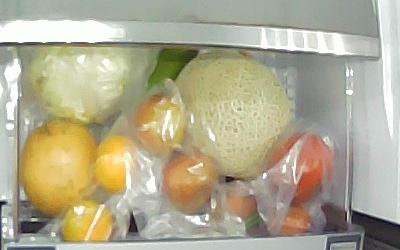cabbage: (28, 45, 132, 123)
melon: (173, 49, 291, 178)
pear: (20, 118, 99, 217)
prune_vinyl: (161, 146, 220, 214), (134, 92, 185, 155), (267, 204, 315, 235)
tangerine_vinyl: (95, 133, 138, 193), (60, 197, 112, 241)
tomato_vinyl: (265, 129, 334, 208)
zucchini: (144, 46, 199, 92)
